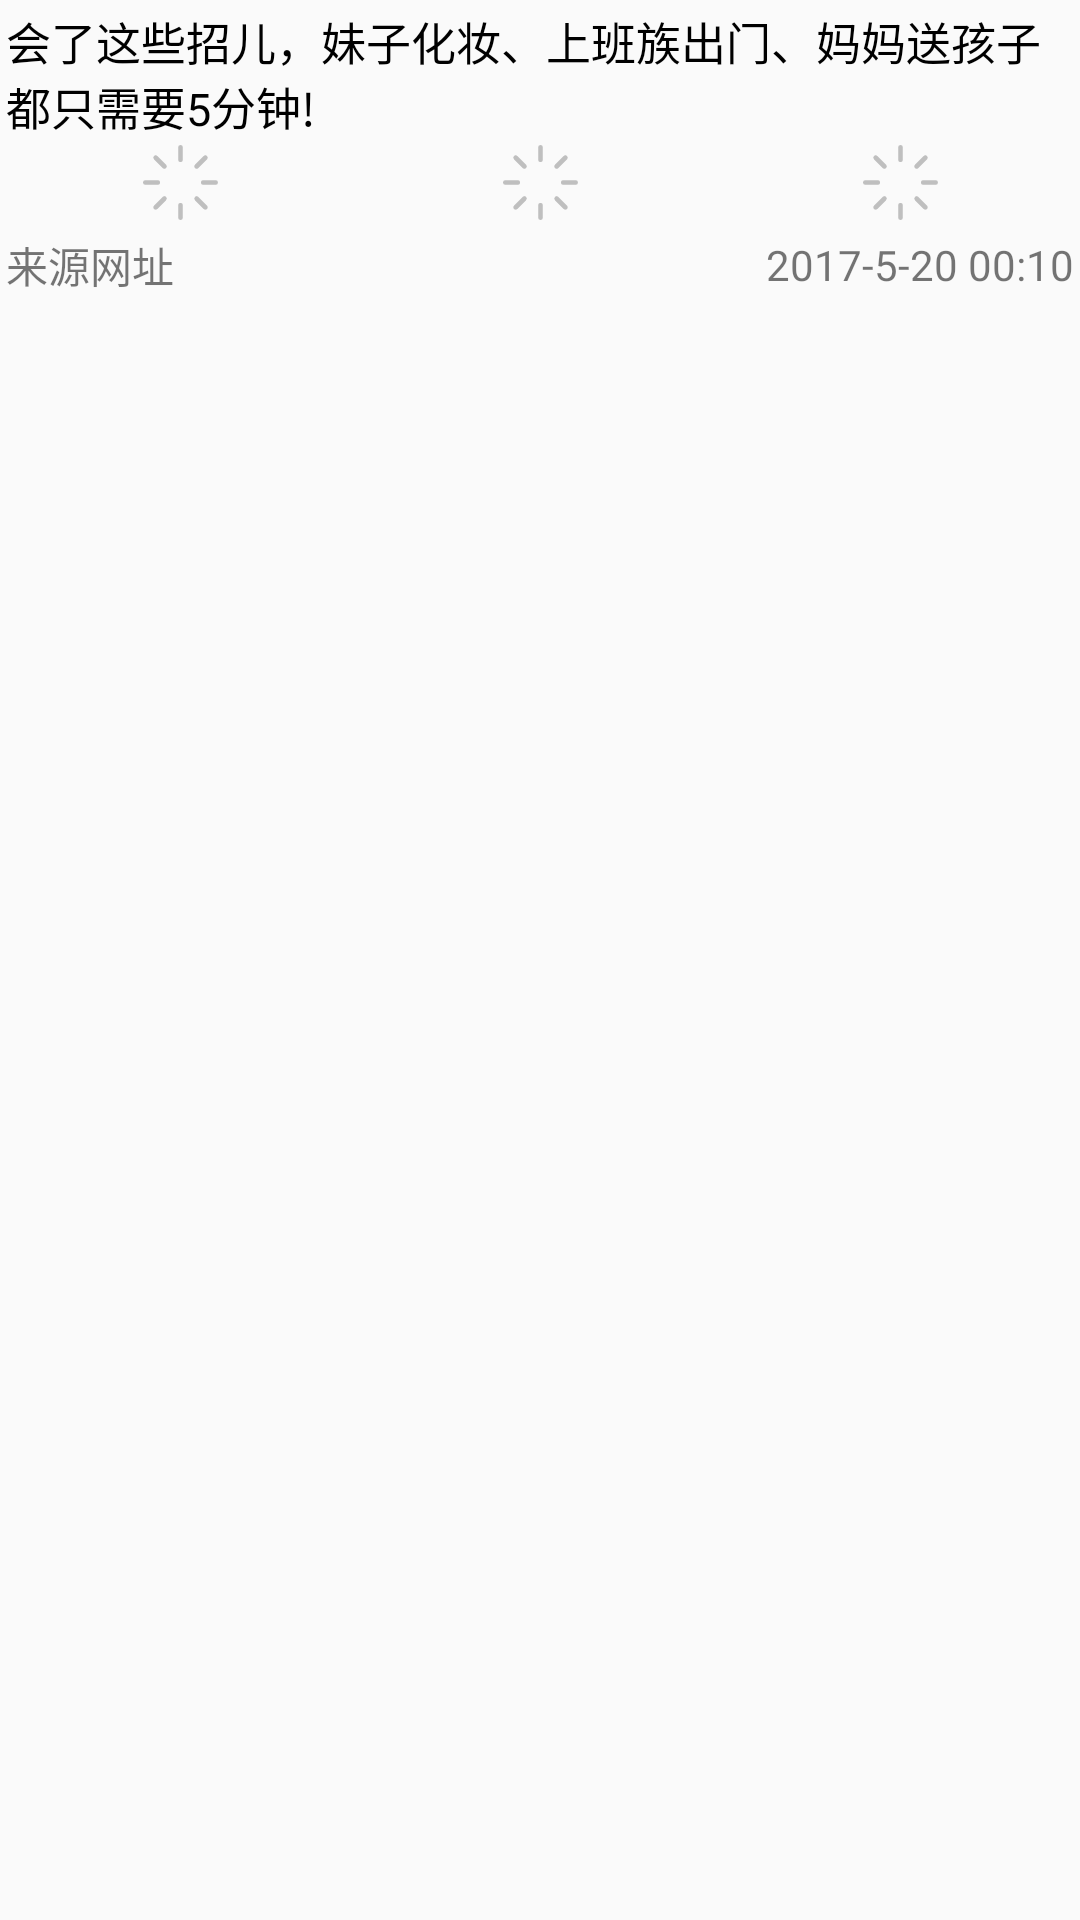

Screen size 1080*1920. Icon name, then its center in pixels as (x=x, y=y):
load: (x=180, y=182), (x=540, y=182), (x=900, y=182)
